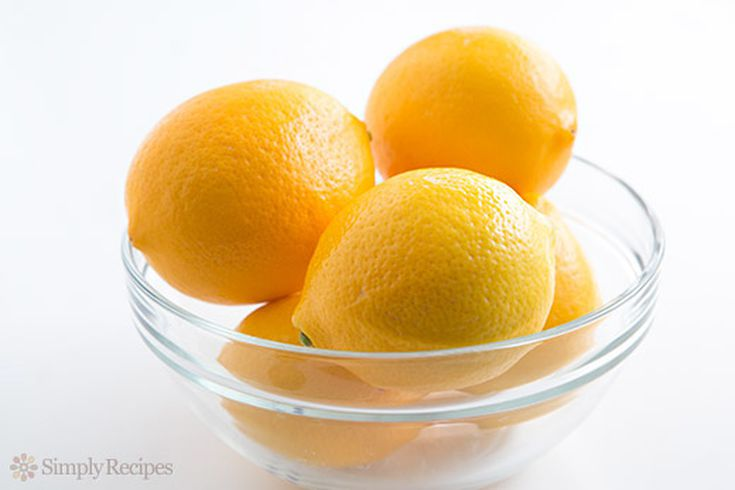lemon: (289, 168, 557, 391)
